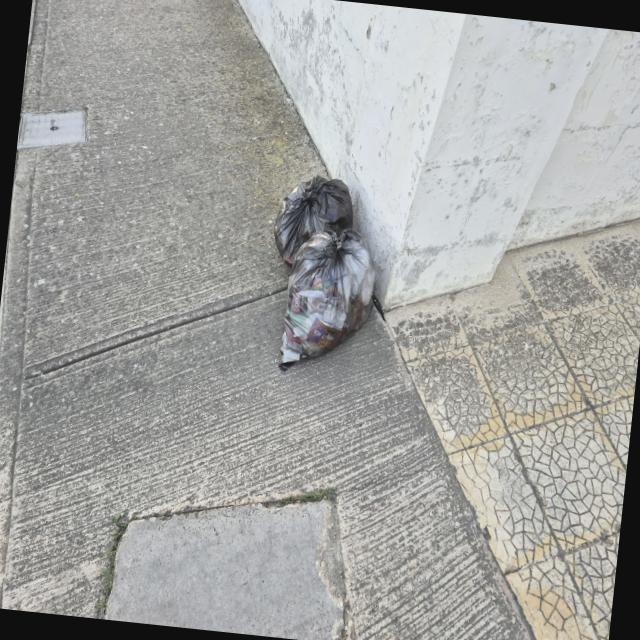black_bag: (268, 228, 389, 373), (268, 152, 360, 268)
